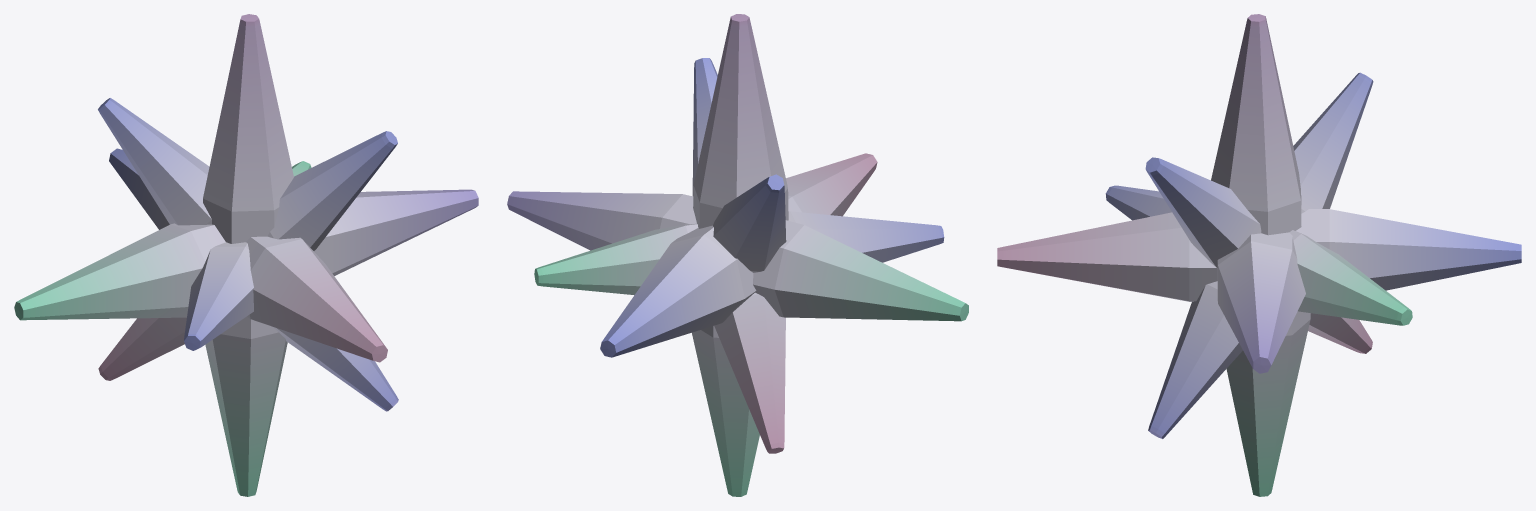
Rendered from Star.gltf.
The picture shows the model from 3 angles, left to right: view 1: azimuth 30°, elevation 25°; view 2: azimuth 150°, elevation 25°; view 3: azimuth 270°, elevation 25°; orthographic projection.
Visible parts, largest first — view 1: 8; view 2: 8; view 3: 8.
Boxes of the visible parts, left/top/right/bottom form: 8: left=14, top=14, right=478, bottom=496; 8: left=507, top=14, right=968, bottom=496; 8: left=997, top=14, right=1521, bottom=496.
Bounding box in the file's own units: 2.22 × 2.22 × 2.22.
